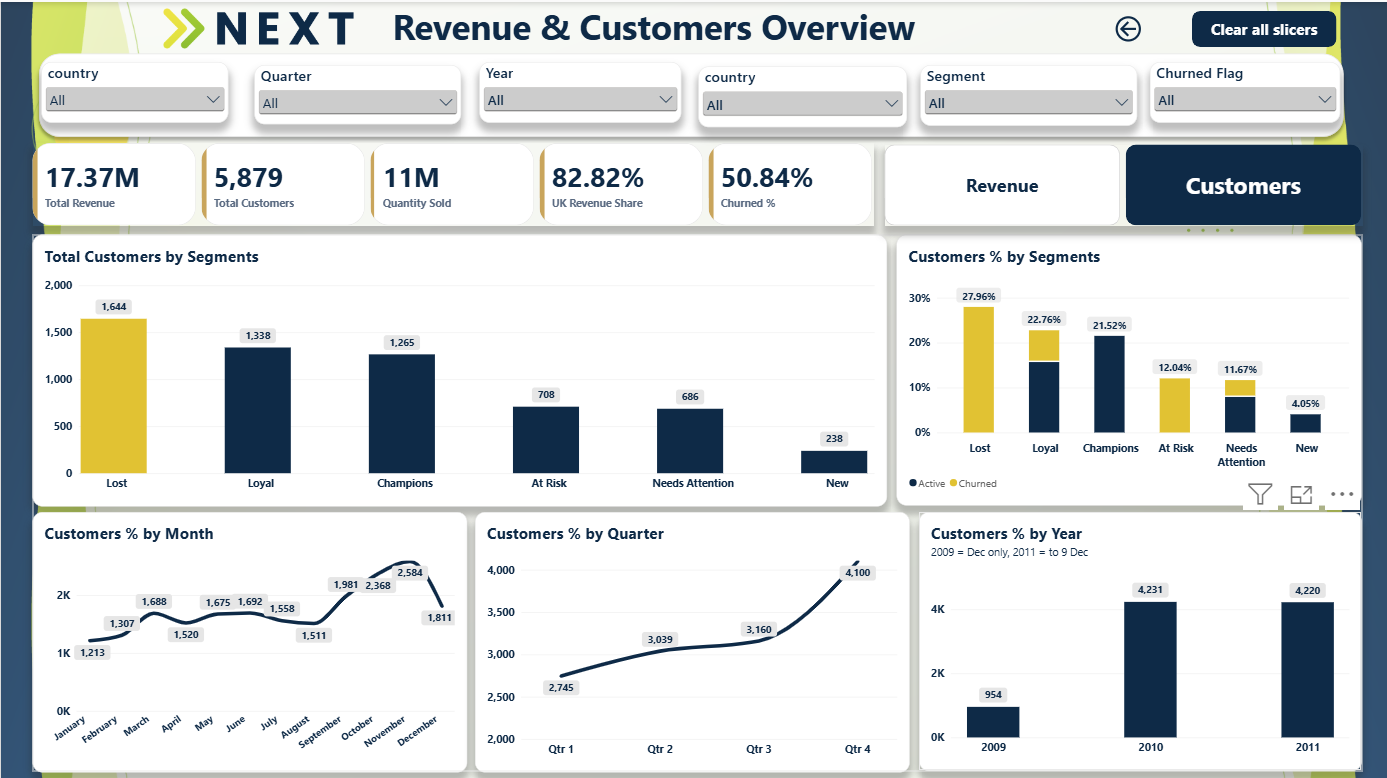

The dashboard page shown, as its layout file describes it:
{"tool":"powerbi","page":{"name":"Business Overview","canvas":[1920,1080],"ordinal":1},"visuals":[{"type":"cardVisual","fields":{"Data":["Table.Total Revenue","Table.Total CXS","Table.Total Quantity Sold","Table.UK Price %","Table.Churned %"]},"box":[43.7,195.3,1165,114.9],"z":0},{"type":"columnChart","title":"Total Customers by Segments","fields":{"Category":["public customer_segments.customer_segment"],"Y":["Table.Total CXS"]},"box":[44.4,321,1183.4,376.9],"z":0,"group":"g1"},{"type":"group","id":"g1","title":"Group 1","box":[44.4,321,1840.6,744.6],"z":1000},{"type":"columnChart","title":"Customers % by Segments","fields":{"Category":["public customer_segments.customer_segment"],"Series":["public customer_segments.churn_flag"],"Y":["Table.Total CXS"]},"box":[1240,321,644.2,375.5],"z":1000,"group":"g1"},{"type":"lineChart","title":"Customers % by Month","fields":{"Category":["public nextdata_analysis.invoicedate.Variation.Date Hierarchy.Month"],"Y":["Table.Total CXS"]},"box":[44.4,704.7,602,360.8],"z":2000,"group":"g1"},{"type":"bookmarkNavigator","box":[1222.5,197.6,661.8,112.6],"z":3000},{"type":"lineChart","title":"Customers % by Quarter","fields":{"Category":["public nextdata_analysis.invoicedate.Variation.Date Hierarchy.Quarter"],"Y":["Table.Total CXS"]},"box":[657.1,704.8,602,360.8],"z":3000,"group":"g1"},{"type":"shape","box":[43.7,62,1824.5,133.3],"z":4000},{"type":"columnChart","title":"Customers % by Year","fields":{"Category":["public nextdata_analysis.invoicedate.Variation.Date Hierarchy.Year"],"Y":["Table.Total CXS"]},"box":[1271.5,704.7,613.5,358.5],"z":4000,"group":"g1"},{"type":"slicer","fields":{"Values":["public nextdata_analysis.country"]},"box":[55.6,84.1,258.9,84],"z":5000},{"type":"slicer","fields":{"Values":["public nextdata_analysis.invoicedate.Variation.Date Hierarchy.Quarter"]},"box":[350.9,86.4,286.2,81.8],"z":6000},{"type":"slicer","fields":{"Values":["public nextdata_analysis.invoicedate.Variation.Date Hierarchy.Year"]},"box":[662,84.1,279.4,84],"z":7000},{"type":"slicer","fields":{"Values":["public customer_segments.customer_segment"]},"box":[1273,86.4,299.8,84],"z":8000},{"type":"slicer","fields":{"Values":["public customer_segments.churn_flag"]},"box":[1591,84.1,263.5,84],"z":9000},{"type":"slicer","fields":{"Values":["public customer_segments.country"]},"box":[966.4,88.6,288.5,84],"z":10000},{"type":"group","id":"g2","title":"Group 3","box":[195.3,0,1128.3,96.5],"z":11000},{"type":"actionButton","box":[1649.9,11.5,200,50],"z":12000},{"type":"image","box":[195.3,0,322.7,73.5],"z":13000,"group":"g2"},{"type":"actionButton","box":[1507.4,6.9,105.7,62],"z":13000},{"type":"textbox","box":[542.5,0,781.1,96.5],"z":14000,"group":"g2"}]}

Visuals, with their boxes in screenshot pixels (x1, y1, x2, y2), scaled from the page's 1920x1080 canvas onto the 1387x778 screenshot:
cardVisual - Table.Total Revenue x Table.Total CXS: 32:141:873:223
"Total Customers by Segments" columnChart: 32:231:887:503
"Group 1" group: 32:231:1362:768
"Customers % by Segments" columnChart: 896:231:1361:502
"Customers % by Month" lineChart: 32:508:467:768
bookmarkNavigator: 883:142:1361:223
"Customers % by Quarter" lineChart: 475:508:910:768
shape: 32:45:1350:141
"Customers % by Year" columnChart: 919:508:1362:766
slicer - public nextdata_analysis.country: 40:61:227:121
slicer - public nextdata_analysis.invoicedate.Variation.Date Hierarchy.Quarter: 253:62:460:121
slicer - public nextdata_analysis.invoicedate.Variation.Date Hierarchy.Year: 478:61:680:121
slicer - public customer_segments.customer_segment: 920:62:1136:123
slicer - public customer_segments.churn_flag: 1149:61:1340:121
slicer - public customer_segments.country: 698:64:907:124
"Group 3" group: 141:0:956:70
actionButton: 1192:8:1336:44
image: 141:0:374:53
actionButton: 1089:5:1165:50
textbox: 392:0:956:70
